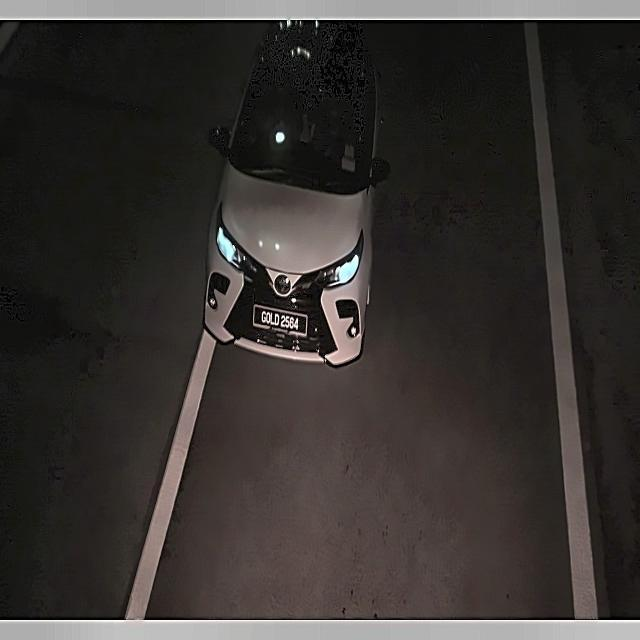car: (251, 301, 311, 344)
